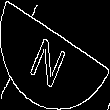N_NE: (32, 24, 78, 86)
